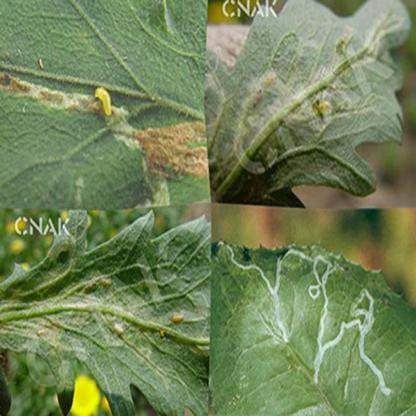whorl-maggot: (96, 82, 116, 119), (171, 310, 187, 331)
